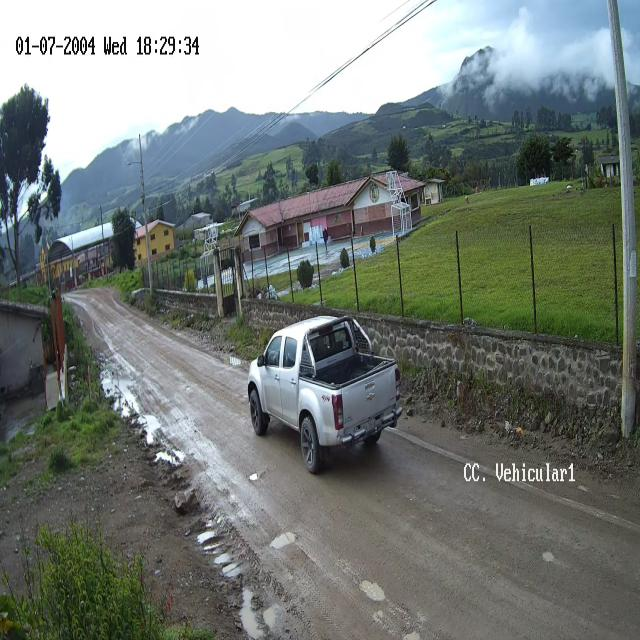CMT: (246, 317, 402, 475)
